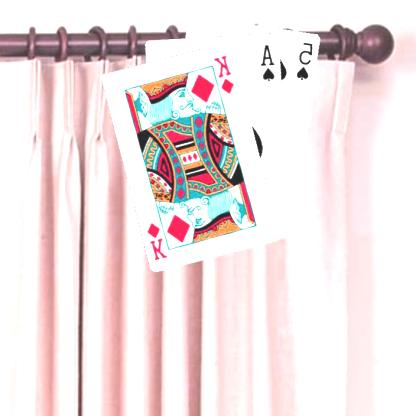5S: (296, 39, 316, 82)
AS: (260, 42, 278, 82)
KD: (213, 52, 237, 95), (146, 220, 170, 262)
